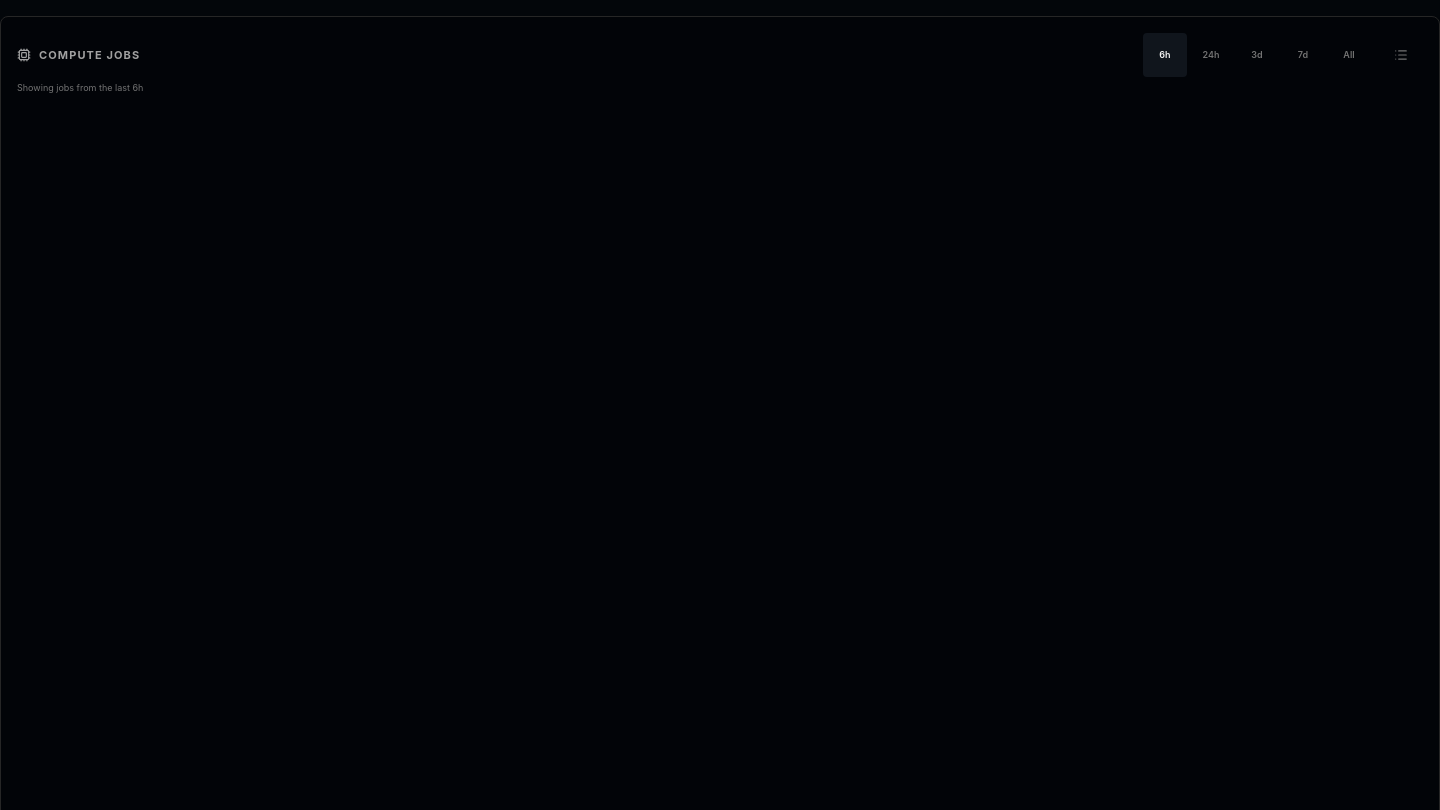
Test case: ComputeJobsPanel resume provenance rendering › compact table shows resume indicator when input_artifact_job_id is present
# Switch to table view
Click the button with test id "compute-view-mode-toggle" at (1401, 55), box [1379,33,1423,77]
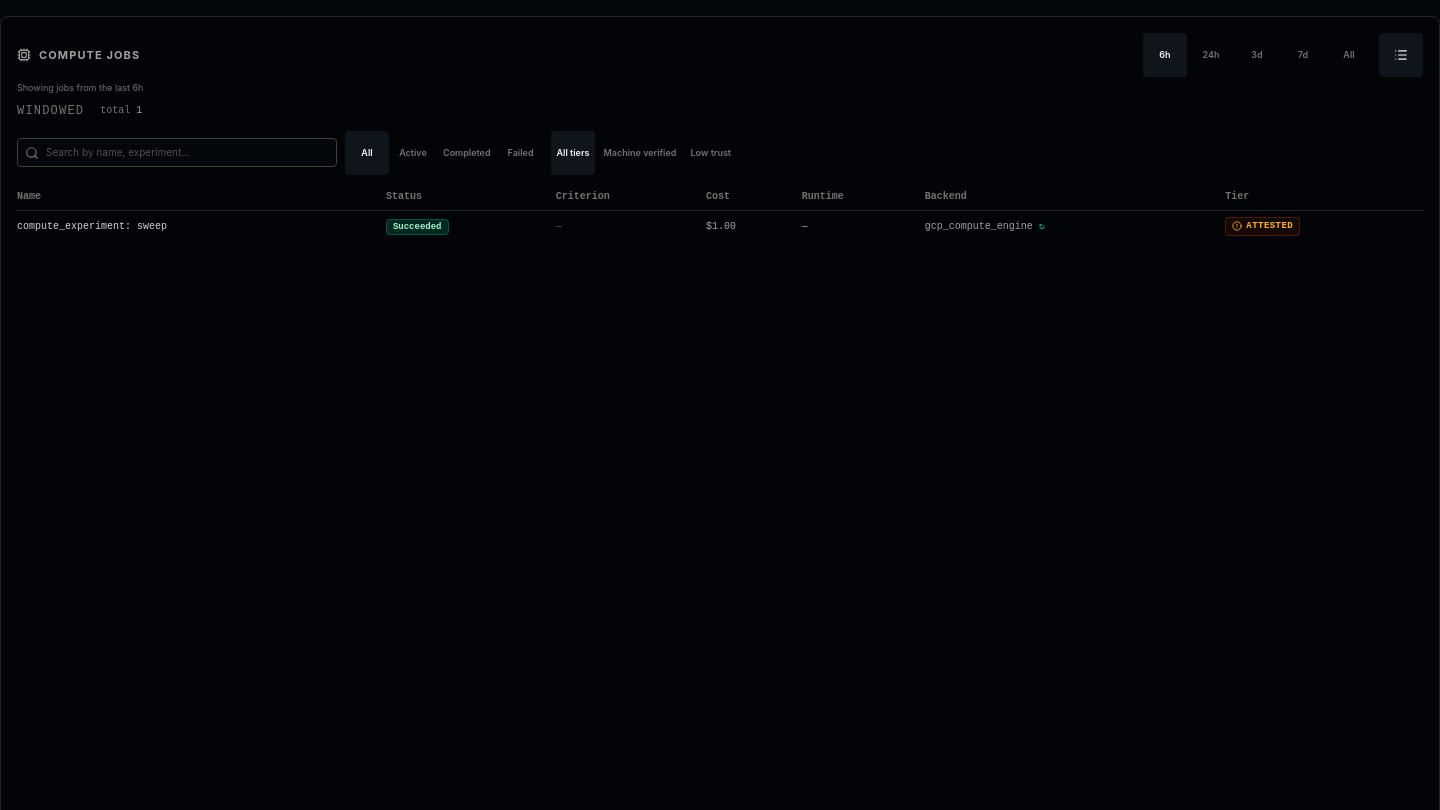
expect the text "↻" is shown: met, box [1039,219,1045,234]
